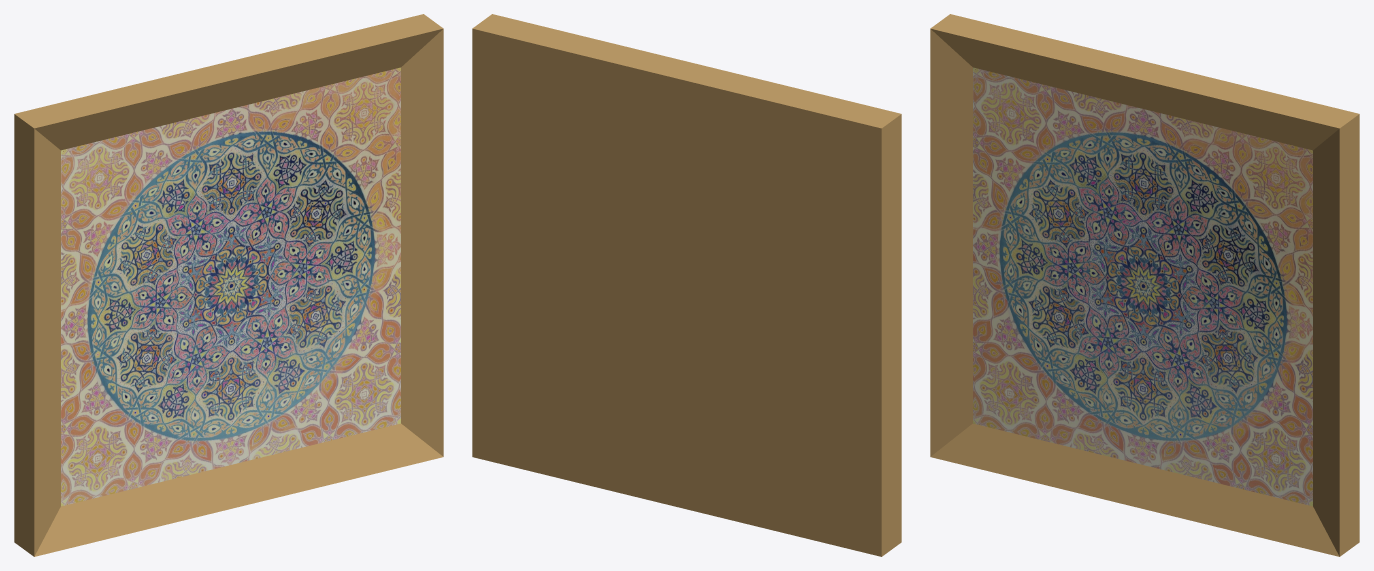
Rendered from peacock-minerva-peacock-sahara-sand-yellow-a3-natural-oak-v2.glb.
The picture shows the model from 3 angles, left to right: view 1: azimuth 30°, elevation 25°; view 2: azimuth 150°, elevation 25°; view 3: azimuth 330°, elevation 25°; orthographic projection.
Visible parts, largest first — view 1: FramedPrint; view 2: FramedPrint; view 3: FramedPrint.
Boxes of the visible parts, x1,y1,x2,y2 form: FramedPrint: (14,14,443,556); FramedPrint: (472,14,901,556); FramedPrint: (930,14,1359,556).
Size of the model in its own units: 0.355 by 0.355 by 0.03.
2 materials, 1 textured.
